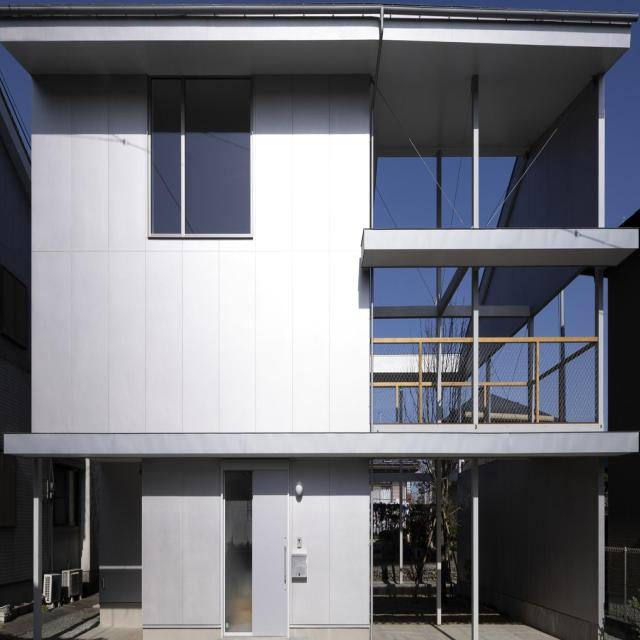door: (250, 471, 290, 635)
window: (147, 73, 253, 235), (223, 467, 249, 637)
